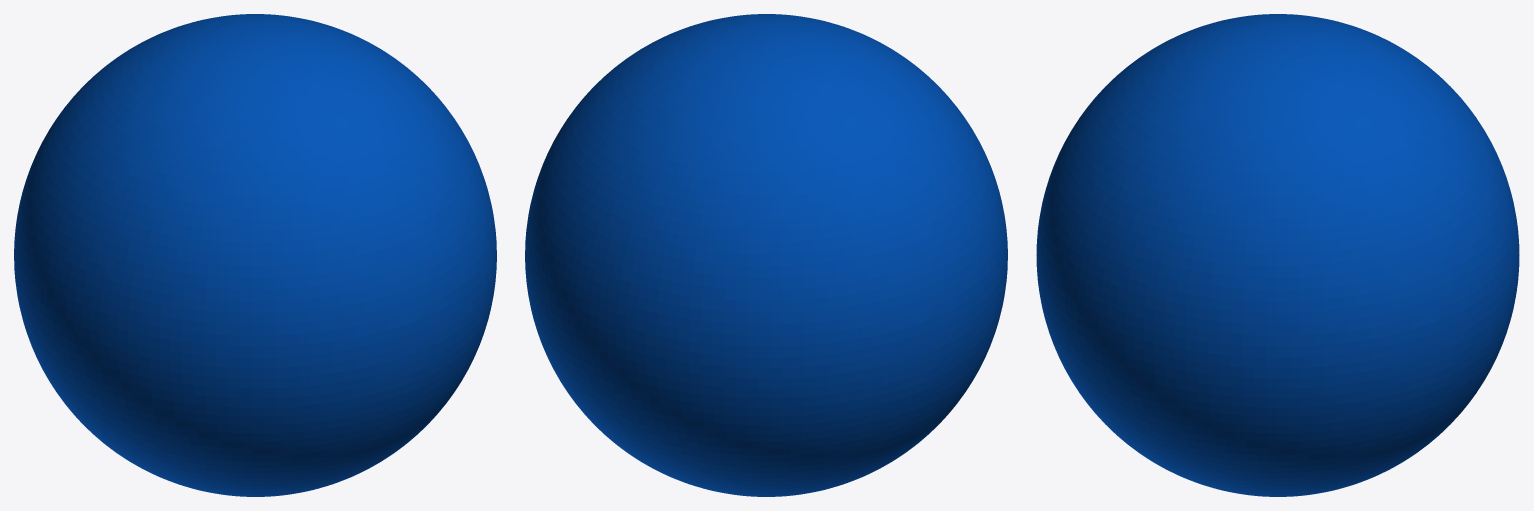
File: stage.fbx
3 renders of one model, left to right at view 1: azimuth 30°, elevation 25°; view 2: azimuth 150°, elevation 25°; view 3: azimuth 270°, elevation 25°, orthographic.
Visible parts, largest first — view 1: 球; view 2: 球; view 3: 球.
Part boxes in pixels (bbox=[...]): 球: bbox=[14, 14, 496, 496]; 球: bbox=[525, 14, 1007, 496]; 球: bbox=[1036, 14, 1519, 496].
Size of the model in its own units: 20000 by 20000 by 20000.
